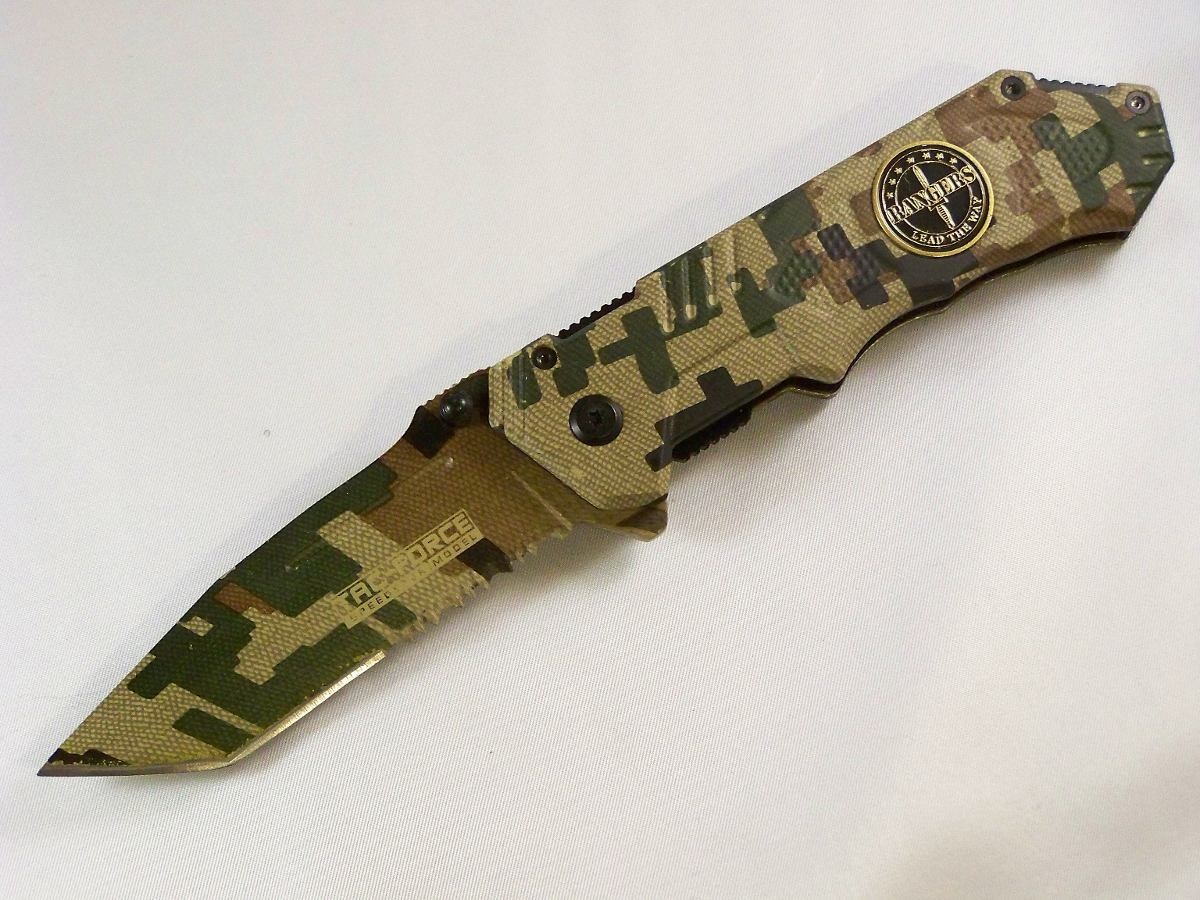knife: (22, 319, 657, 796)
